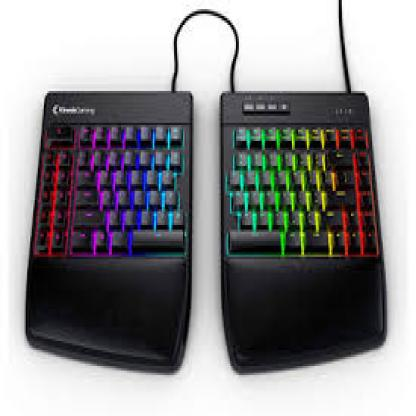mouse: (232, 125, 378, 271), (43, 126, 185, 265)
